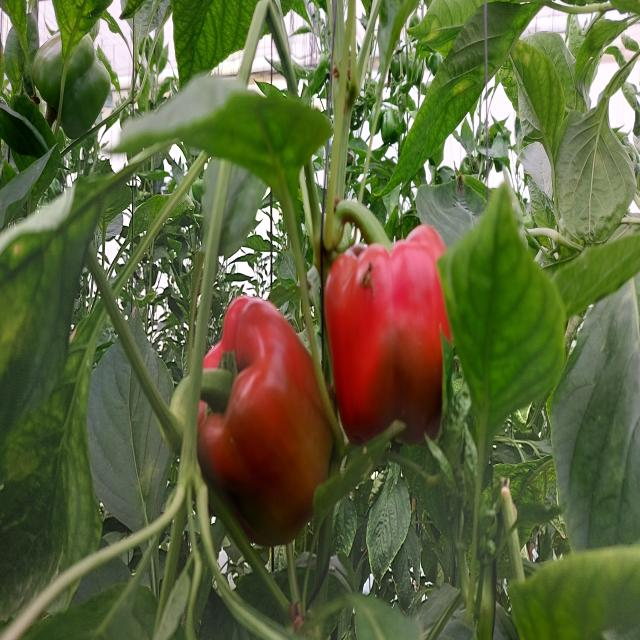Red-Ready-to-Harvest: (181, 278, 338, 546), (324, 207, 457, 452)
